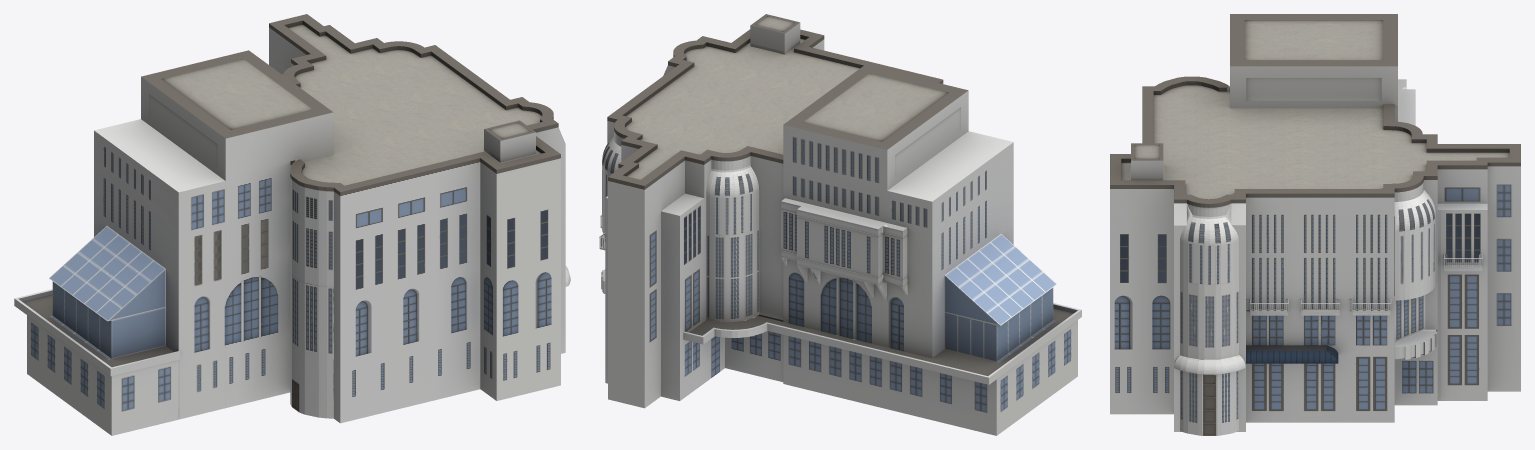
File: Oblasna-Philharmonic_op_h+op_l.gltf
The picture shows the model from 3 angles, left to right: view 1: azimuth 30°, elevation 25°; view 2: azimuth 150°, elevation 25°; view 3: azimuth 270°, elevation 25°; orthographic projection. The views are drawn at different scales.
Parts seen in each view (by area): view 1: f166c327-7a4b-4309-b46e-1586976a1326; view 2: f166c327-7a4b-4309-b46e-1586976a1326; view 3: f166c327-7a4b-4309-b46e-1586976a1326.
Part boxes in pixels (x1,y1,x2,y2): f166c327-7a4b-4309-b46e-1586976a1326: (14,14,570,435); f166c327-7a4b-4309-b46e-1586976a1326: (599,14,1081,435); f166c327-7a4b-4309-b46e-1586976a1326: (1110,14,1520,435).
Bounding box in the file's own units: 49.14 × 28.48 × 39.69.
3 materials, 3 textured.
